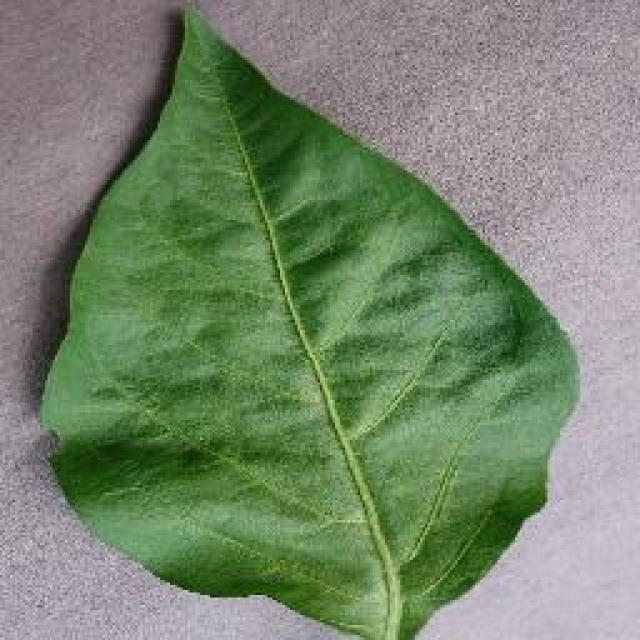Chilli_Healthy: (35, 2, 580, 638)
